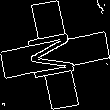M_E: (26, 28, 84, 82)
